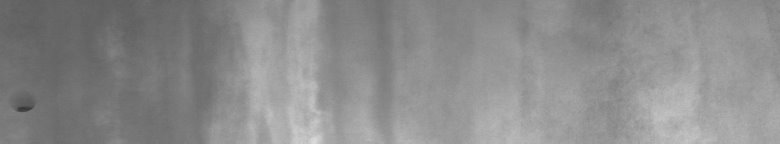fi: (12, 100, 36, 120)
